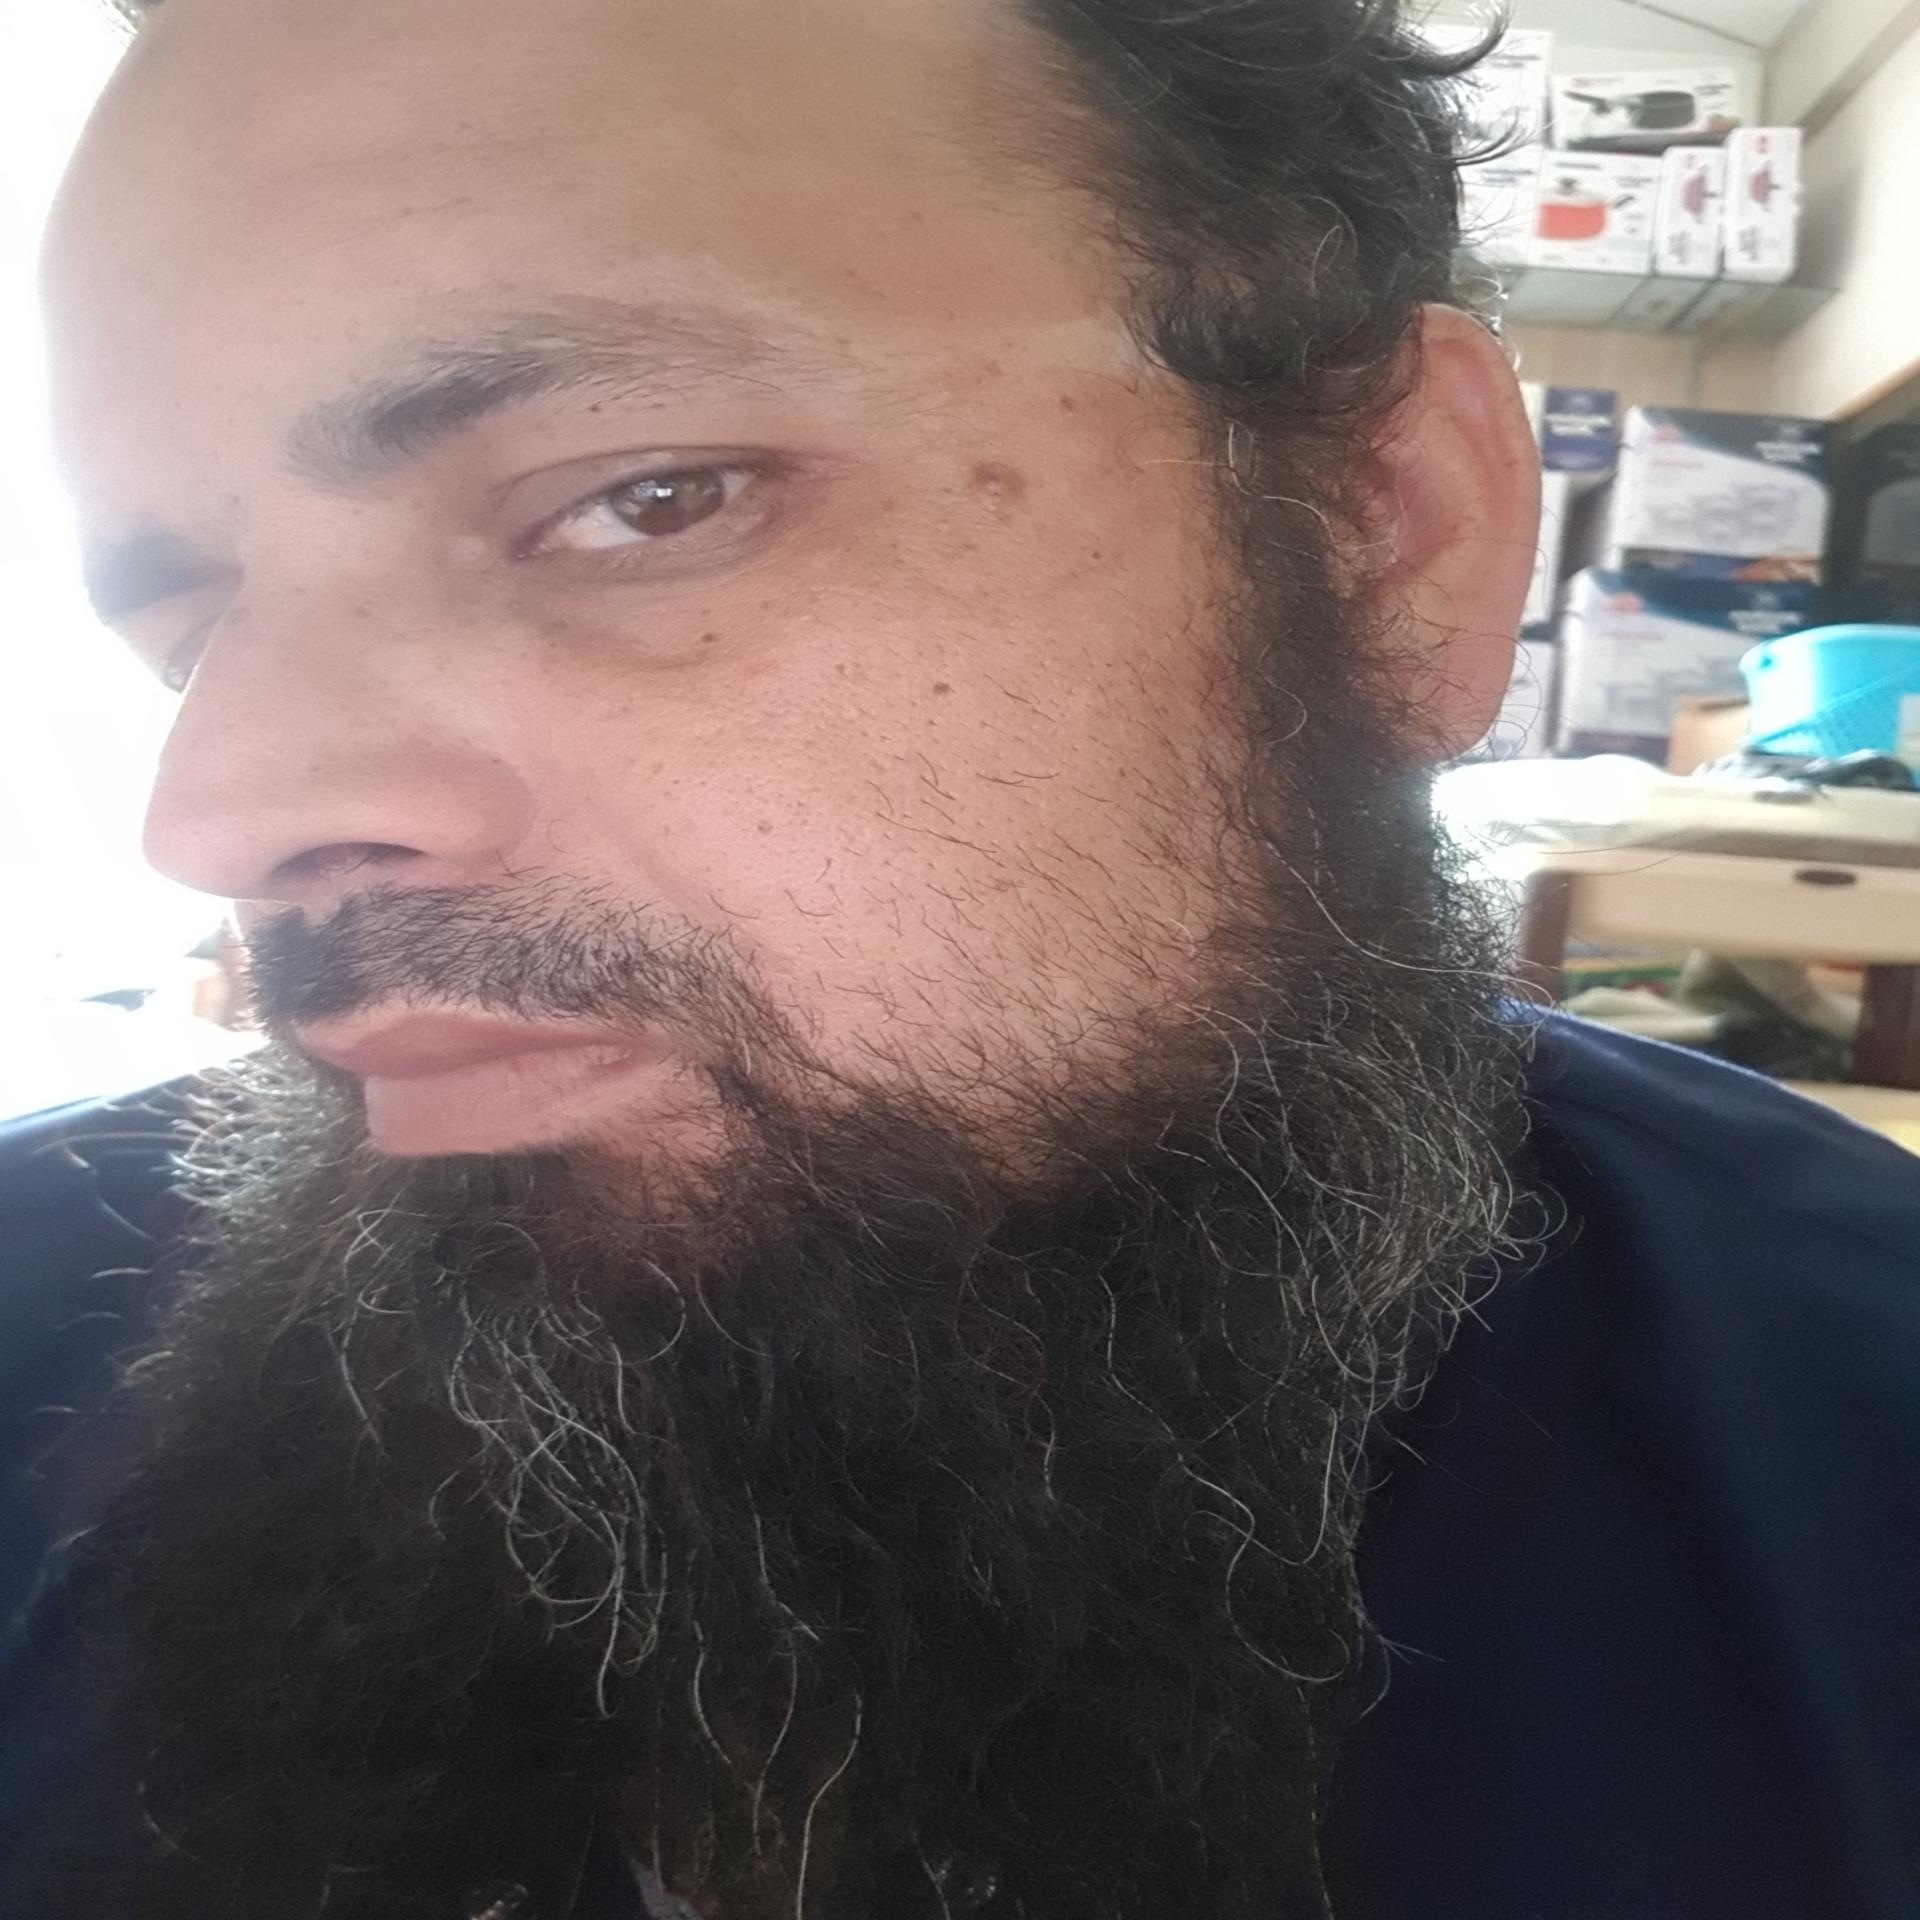Acne: (958, 452, 1046, 517)
Englarged Pores: (700, 677, 992, 867)
Wrinkles: (236, 128, 580, 183), (287, 188, 498, 260), (640, 580, 904, 607)
